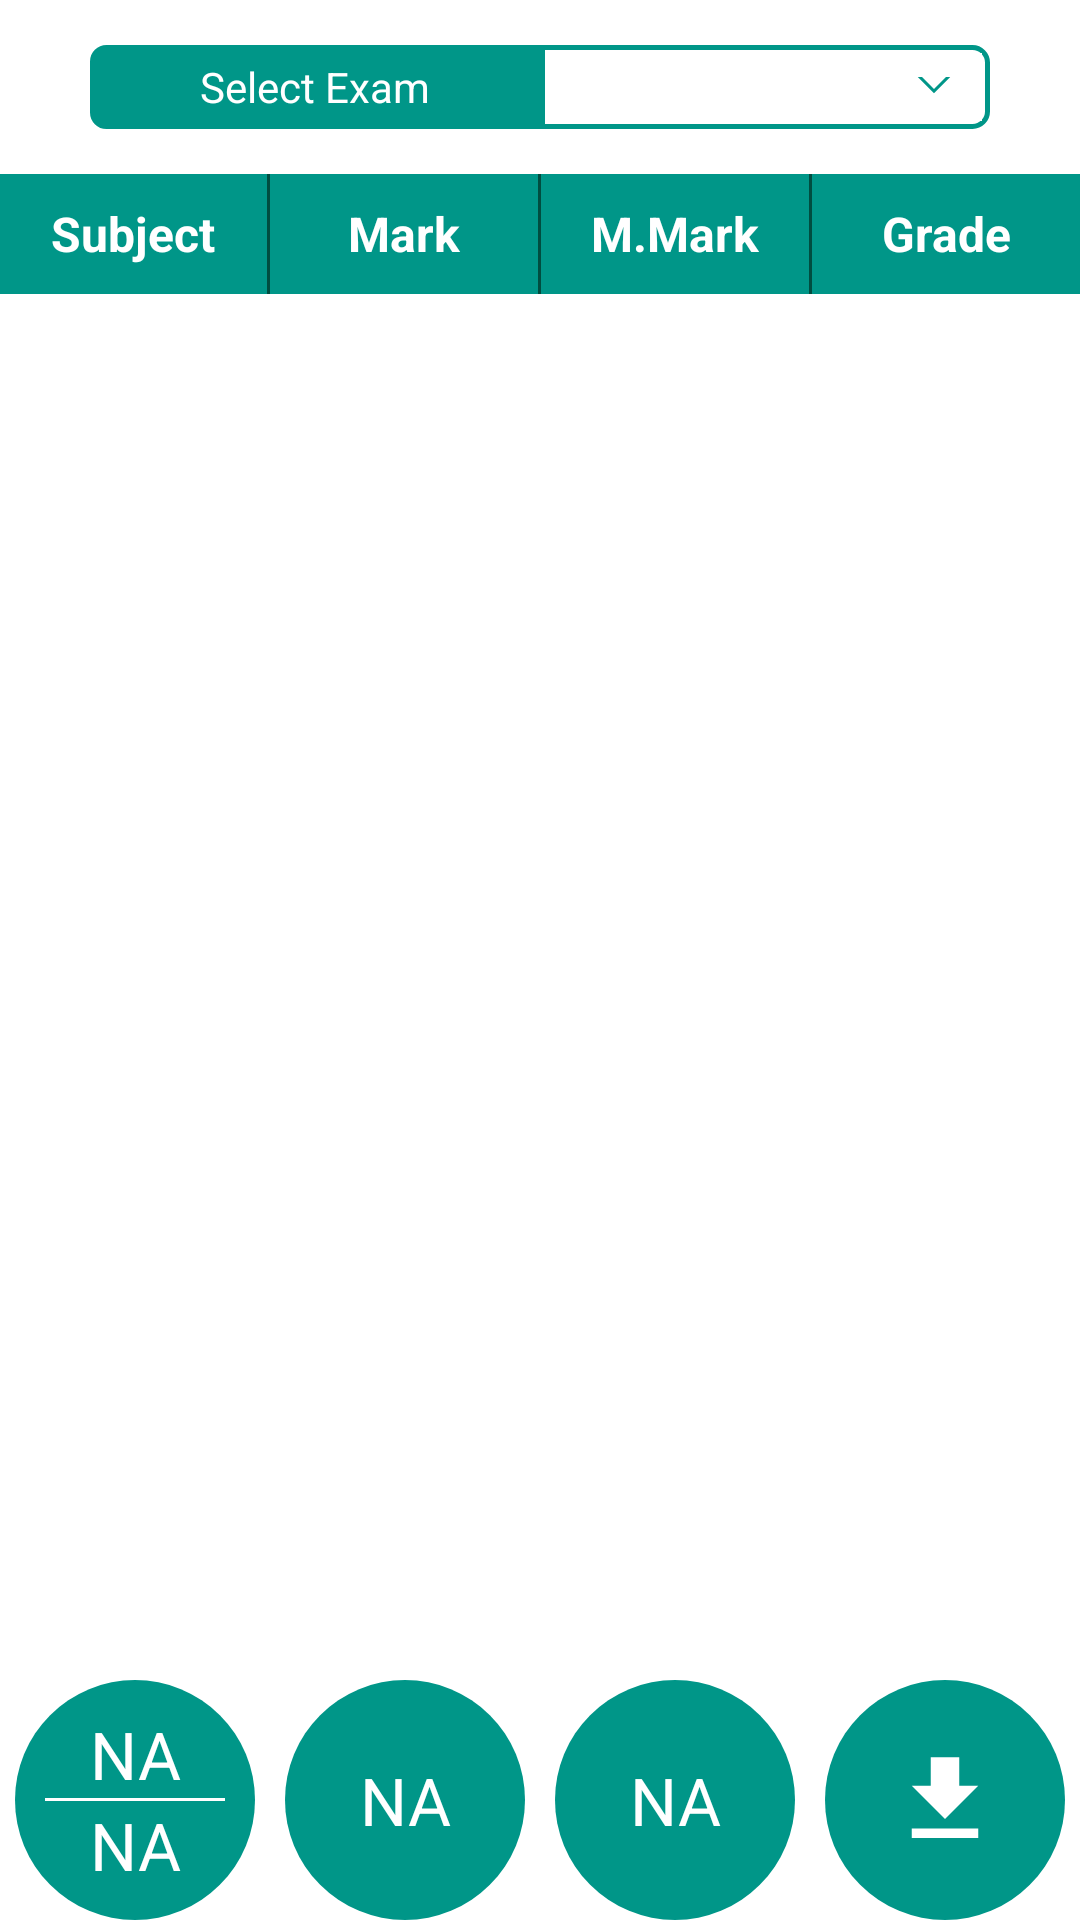

Locate icon controls on the screen. Image size 1080*1920, boxes as rect(x1, y1, x2, y2).
file download: rect(825, 1680, 1065, 1920)
